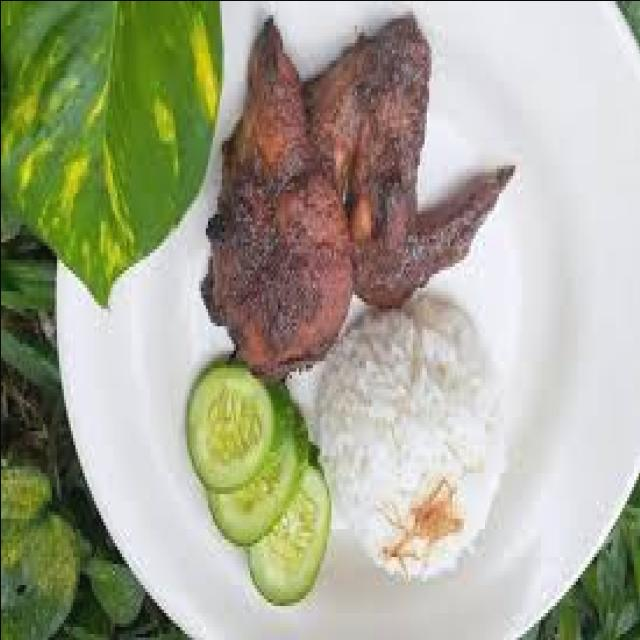ayam bakar: (193, 14, 507, 378)
nasi: (307, 297, 498, 577)
